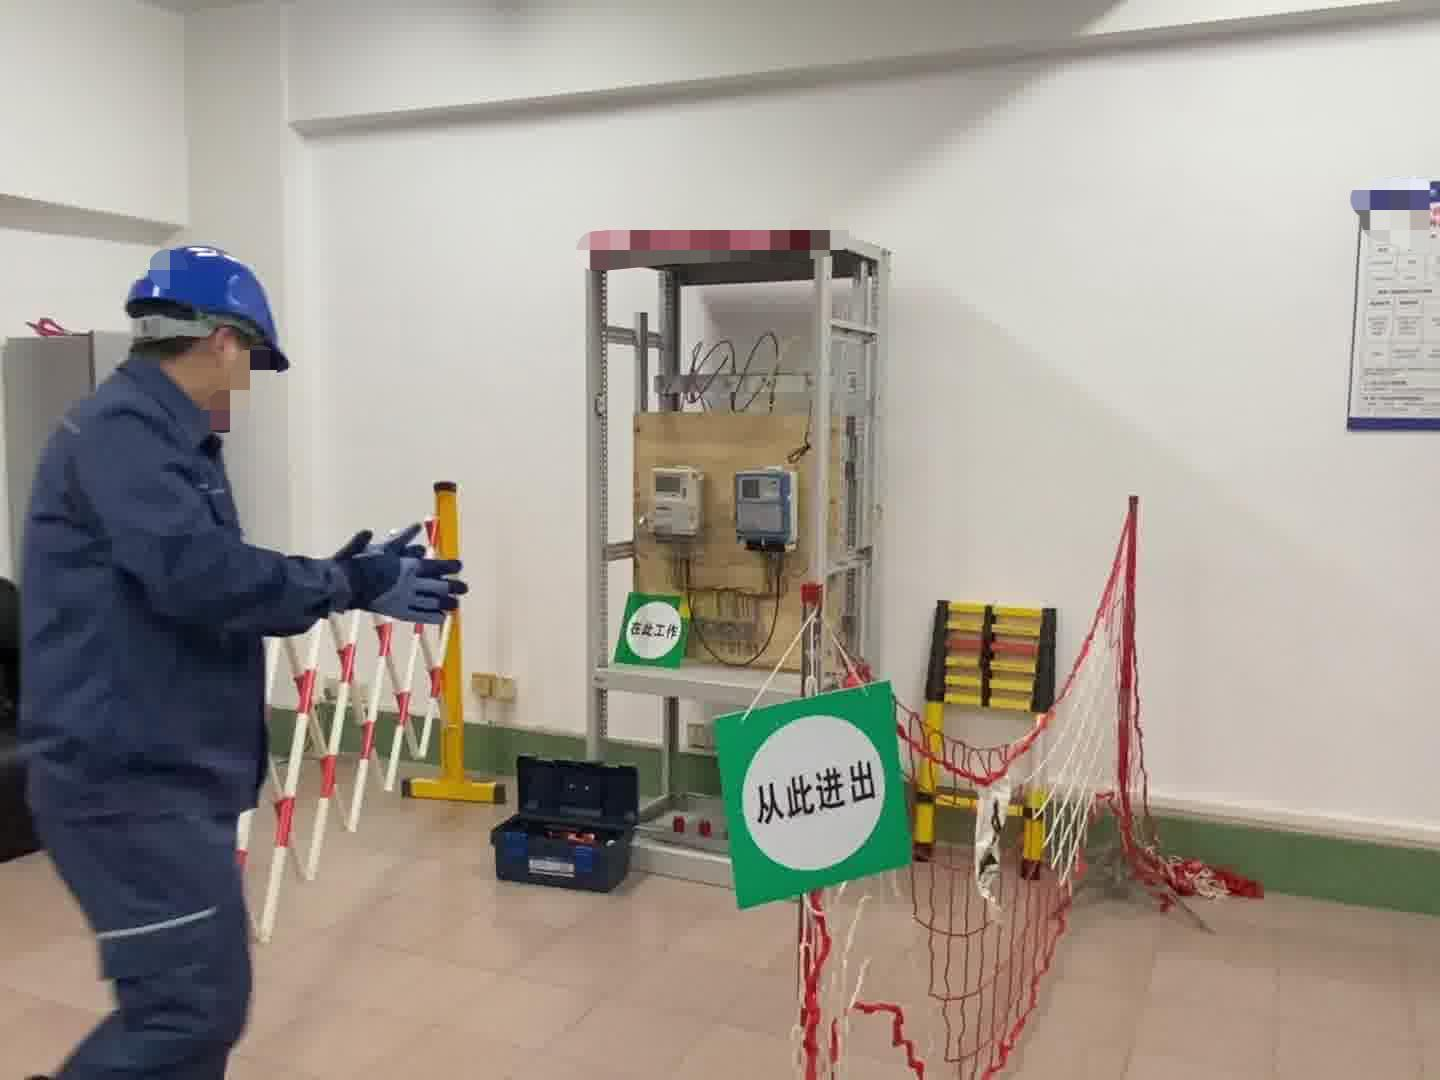halt: (122, 246, 291, 422)
noear: (192, 322, 246, 406)
